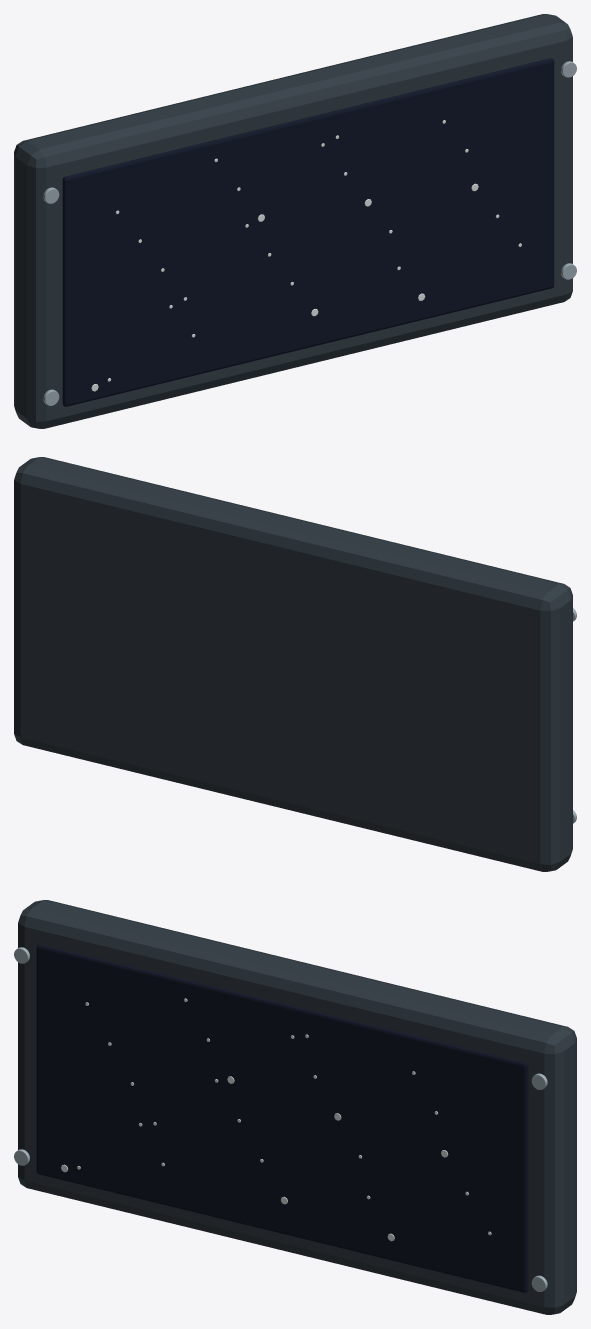
The model's file is viewport.glb.
The picture shows the model from 3 angles, top to bottom: view 1: azimuth 30°, elevation 25°; view 2: azimuth 150°, elevation 25°; view 3: azimuth 330°, elevation 25°; orthographic projection.
Parts seen in each view (by area): view 1: Deep space view, Hull frame; view 2: Hull frame; view 3: Deep space view, Hull frame.
Part boxes in pixels (x1=…): Deep space view: x1=62, y1=58, x2=554, y2=406; Hull frame: x1=14, y1=14, x2=572, y2=428; Hull frame: x1=14, y1=457, x2=572, y2=871; Deep space view: x1=36, y1=944, x2=528, y2=1292; Hull frame: x1=18, y1=900, x2=576, y2=1314.
Size of the model in its own units: 2.65 by 1.3 by 0.259.
